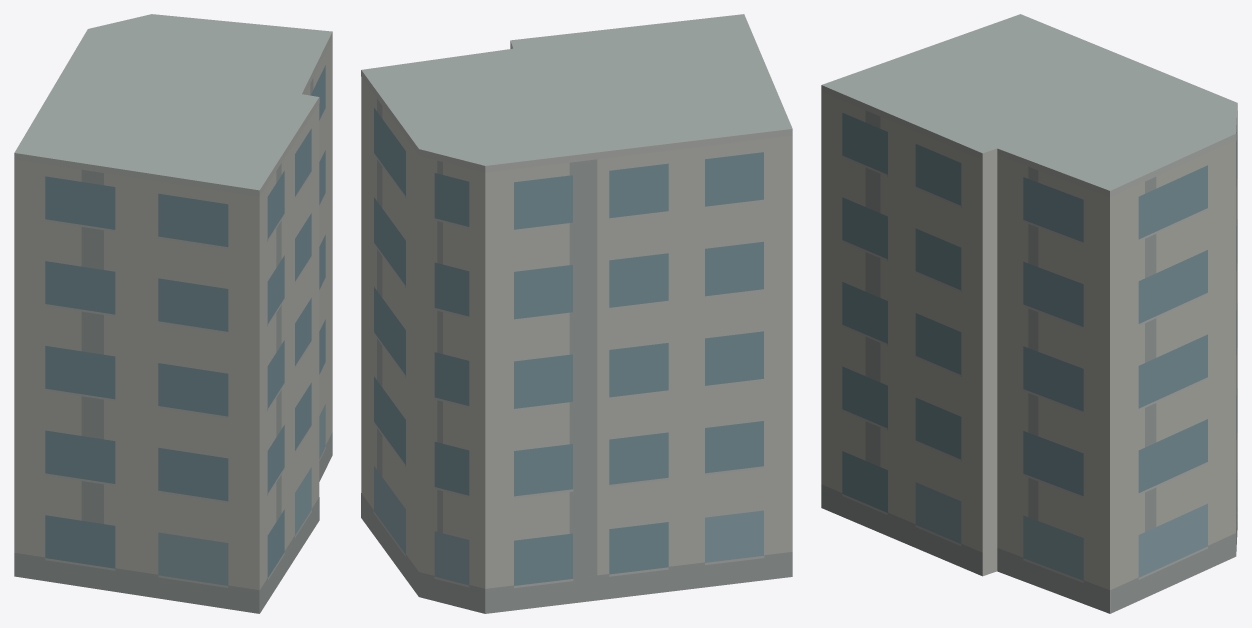
File: survey-upis-32672990.glb
3 renders of one model, left to right at view 1: azimuth 30°, elevation 25°; view 2: azimuth 150°, elevation 25°; view 3: azimuth 270°, elevation 25°, orthographic. The views are drawn at different scales.
Visible parts, largest first — view 1: survey-upis-32672990.tmp; view 2: survey-upis-32672990.tmp; view 3: survey-upis-32672990.tmp.
Part boxes in pixels (bbox=[...]): survey-upis-32672990.tmp: bbox=[14, 14, 332, 613]; survey-upis-32672990.tmp: bbox=[361, 14, 792, 613]; survey-upis-32672990.tmp: bbox=[821, 14, 1237, 613].
Bounding box in the file's own units: 14.18 × 15.8 × 14.1.
